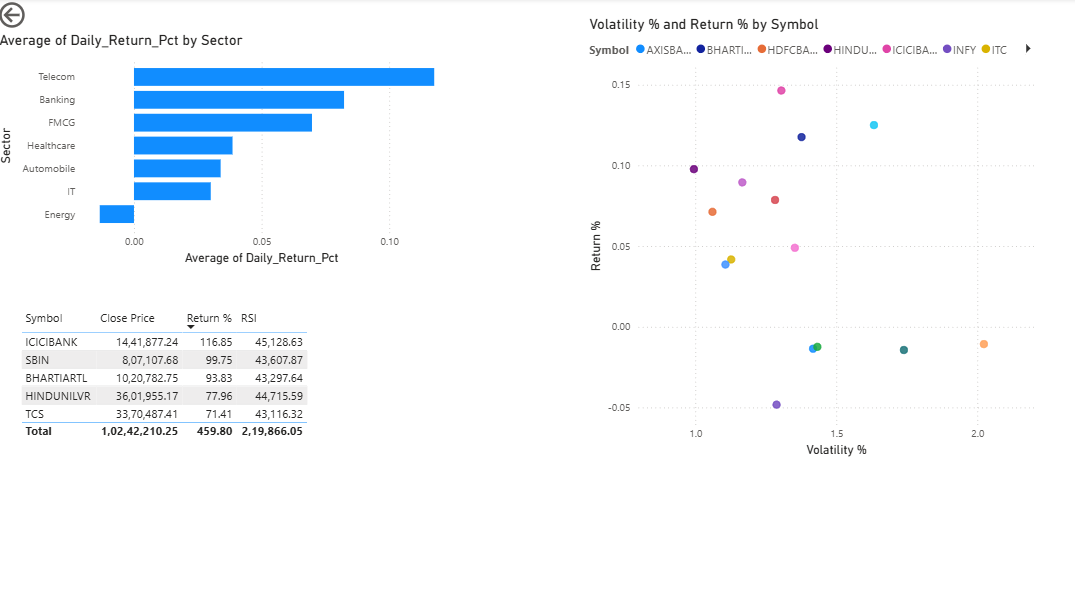

What the dashboard file says about the page in this screenshot:
{"tool":"powerbi","page":{"name":"Analysis","canvas":[1280,720],"ordinal":1},"visuals":[{"type":"clusteredBarChart","fields":{"Category":["nse_cleaned.Sector"],"Y":["Avg(nse_cleaned.Daily_Return_Pct)"]},"box":[0,39.5,542.2,279.8],"z":0},{"type":"tableEx","fields":{"Values":["nse_cleaned.Symbol","Sum(nse_cleaned.Close)","Sum(nse_cleaned.Daily_Return_Pct)","Sum(nse_cleaned.RSI)"]},"box":[25.3,360.4,542.2,289.3],"z":1000},{"type":"actionButton","box":[0,0,100,40],"z":2000},{"type":"scatterChart","fields":{"X":["DateTable.Volatility %"],"Y":["DateTable.Return %"],"Series":["nse_cleaned.Symbol"]},"box":[695.5,20.5,542.2,524.8],"z":3000}]}

Visuals, with their boxes in screenshot pixels (x1, y1, x2, y2), scaled from the page's 1280x720 canvas onto the 1075x602 screenshot:
clusteredBarChart - nse_cleaned.Sector x Avg(nse_cleaned.Daily_Return_Pct): l=0, t=33, r=455, b=267
tableEx - nse_cleaned.Symbol x Sum(nse_cleaned.Close): l=21, t=301, r=477, b=543
actionButton: l=0, t=0, r=84, b=33
scatterChart - DateTable.Volatility % x DateTable.Return %: l=584, t=17, r=1039, b=456
